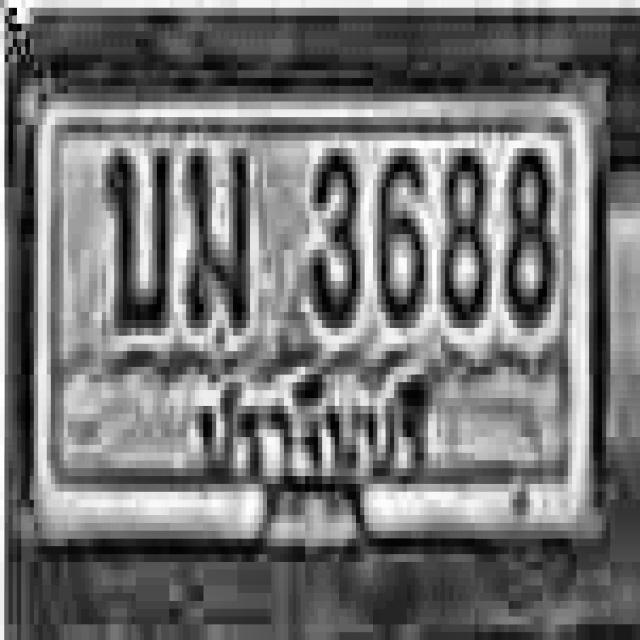license-plate: (32, 79, 607, 545)
